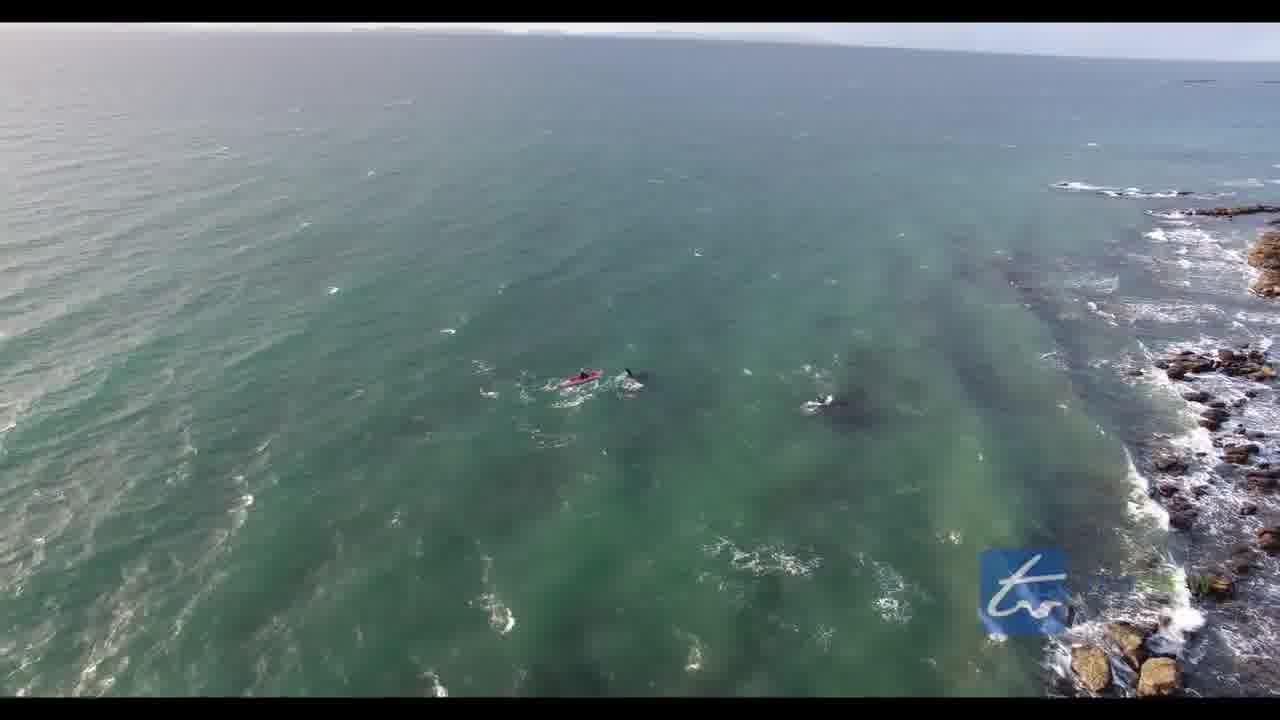swimmer: (800, 388, 856, 415)
